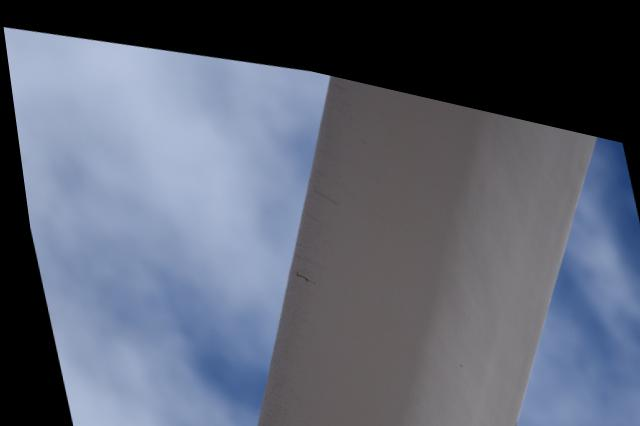damage: (288, 257, 311, 276)
